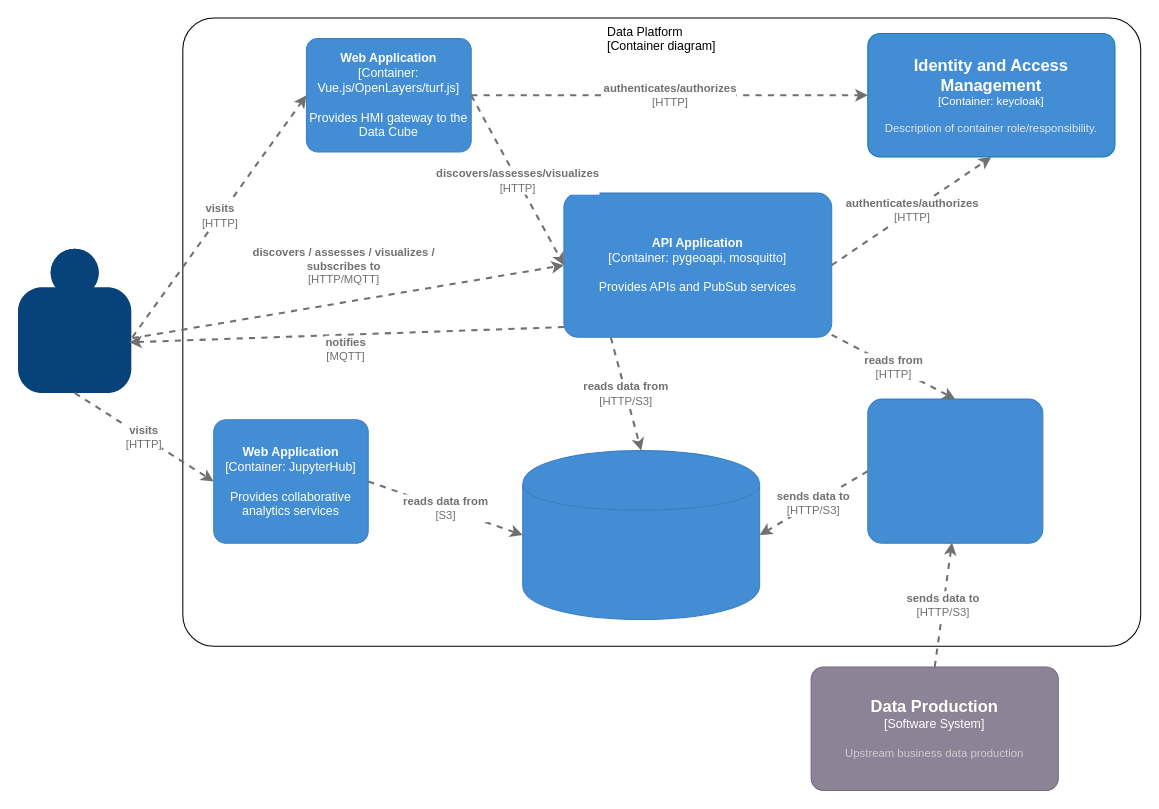
Image size: 1159x809. Some labels were removed from this diagram. Here are the shapes that lost their labels. From the top down, the centre of each, then its label:
the point at 74,320: Users [Person] Researcher Application
the point at 955,470: Data Registry/Publication [Container: TBD] Data Registration
the point at 641,535: Data Cube [Container: Elasticsearch, zarr, TBD] Provides performant access
